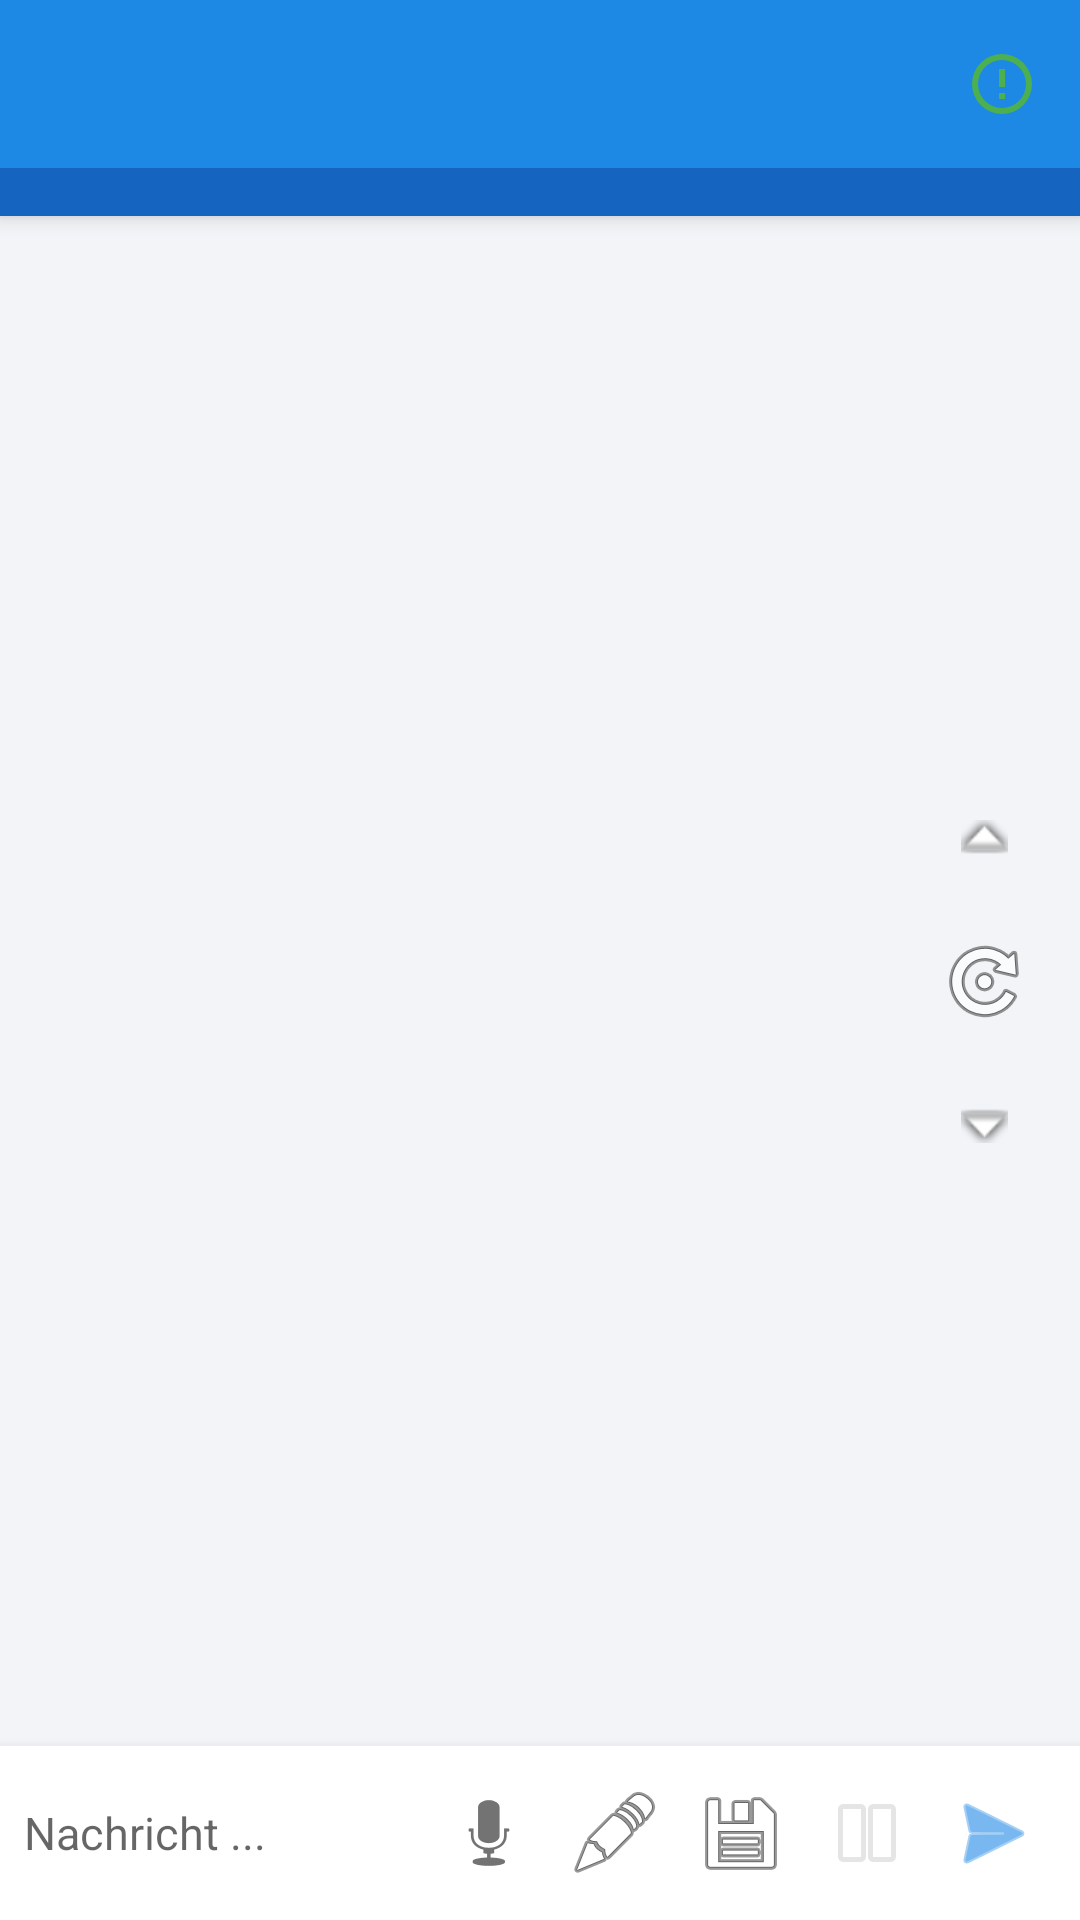

Point at icon controls on the screen. Image size 1080×1920, points as [x,y].
arrow down float: [984,1126]
arrow up float: [984,837]
edit: [614,1832]
pause: [867,1833]
rotate: [984,981]
save: [741,1833]
send: [994,1833]
Spracheingabe: [489,1833]
